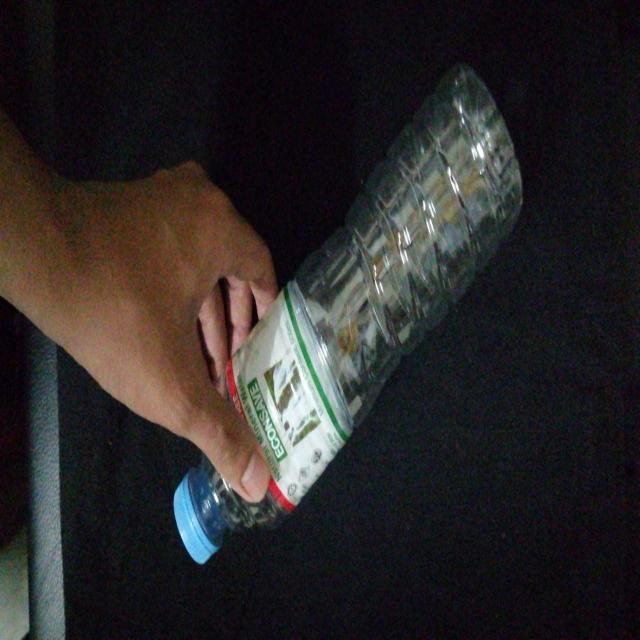Pet_Bottle: (175, 58, 521, 566)
